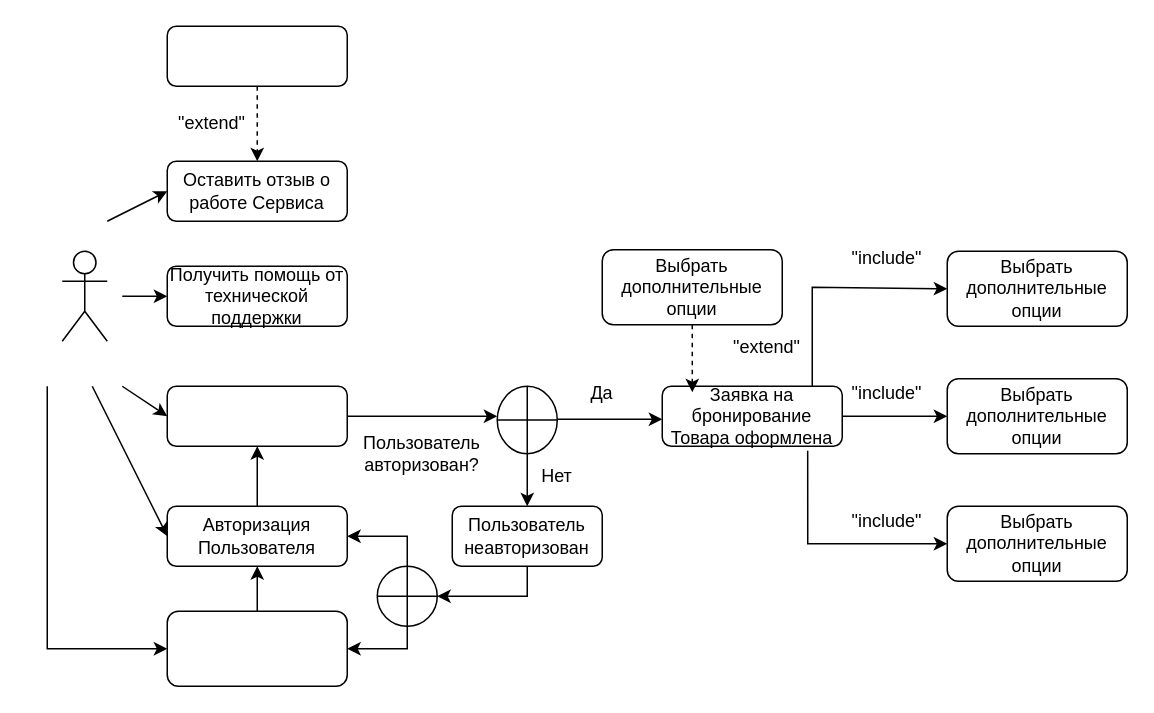
This 1154x713 diagram has some shape labels left out. The box of each missing label's shape, as (x1, y1, x2, y2) in pixels:
Зарегистрировать Пользователя нового пользователя: (166, 610, 347, 686)
Открытие заявки на бронирование Товара: (166, 385, 347, 446)
Пользователь: (61, 250, 107, 341)
Предоставить email для обратной связи: (166, 25, 347, 86)
